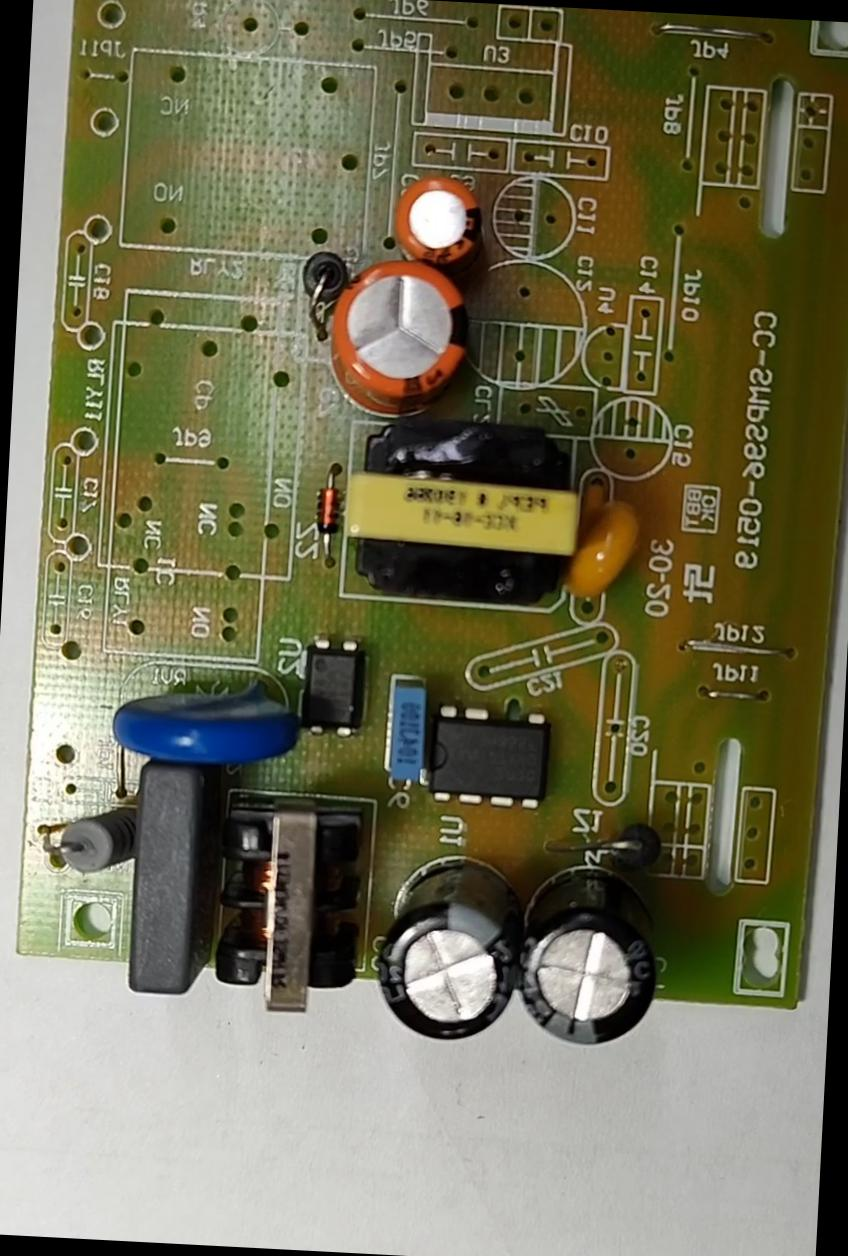Cap1: (317, 252, 484, 422)
Cap2: (361, 160, 504, 276)
Cap3: (366, 844, 530, 1050)
Cap4: (498, 847, 675, 1059)
MOSFET: (406, 692, 556, 816)
Mov: (88, 662, 310, 777)
Resistor: (43, 798, 150, 888)
Transformer: (330, 403, 586, 621), (200, 792, 376, 1024)
